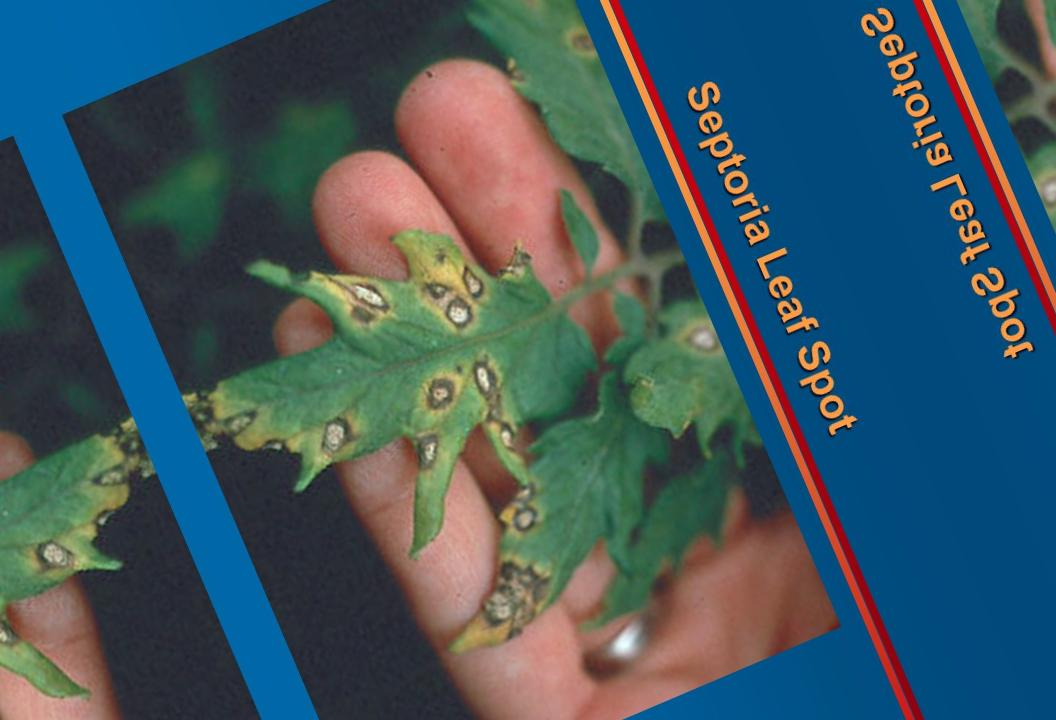Tomato Septoria leaf spot: (146, 151, 622, 591), (378, 376, 728, 677), (427, 0, 677, 297)
